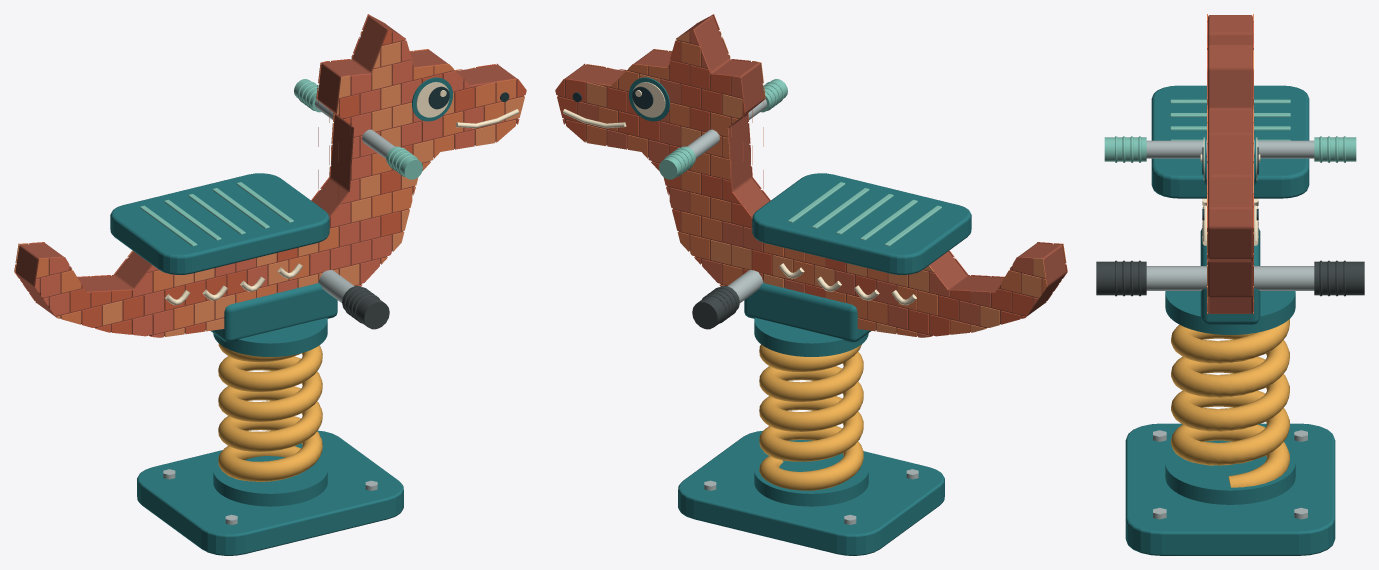
3 views of the same model, side by side, from view 1: azimuth 30°, elevation 25°; view 2: azimuth 150°, elevation 25°; view 3: azimuth 270°, elevation 25° (orthographic). The views are drawn at different scales.
Visible parts, largest first — view 1: Glazed mosaic, Pedestal, Seat, Dragon panel, Suspension, Rider fittings, Dragon face, Wave decoration; view 2: Glazed mosaic, Pedestal, Seat, Dragon panel, Suspension, Rider fittings, Dragon face, Wave decoration; view 3: Pedestal, Suspension, Dragon panel, Rider fittings, Seat, Dragon face, Glazed mosaic.
Boxes of the visible parts, x1,y1,x2,y2 form: Glazed mosaic: (14, 14, 526, 337); Pedestal: (137, 282, 403, 555); Seat: (110, 173, 329, 274); Dragon panel: (15, 15, 523, 335); Suspension: (218, 343, 322, 481); Rider fittings: (294, 79, 422, 329); Dragon face: (412, 77, 518, 128); Wave decoration: (164, 263, 302, 305); Glazed mosaic: (555, 14, 1067, 337); Pedestal: (678, 282, 944, 555); Seat: (752, 173, 971, 274); Dragon panel: (558, 15, 1066, 335); Suspension: (759, 344, 863, 490); Rider fittings: (659, 79, 787, 329); Dragon face: (563, 77, 669, 128); Wave decoration: (779, 263, 916, 305); Pedestal: (1125, 228, 1335, 555); Suspension: (1171, 319, 1289, 487); Dragon panel: (1208, 15, 1252, 313); Rider fittings: (1096, 136, 1364, 296); Seat: (1151, 85, 1309, 198); Dragon face: (1200, 132, 1260, 245); Glazed mosaic: (1207, 14, 1253, 314).
Bounding box in the file's own units: 1.14 × 1.01 × 0.474.
